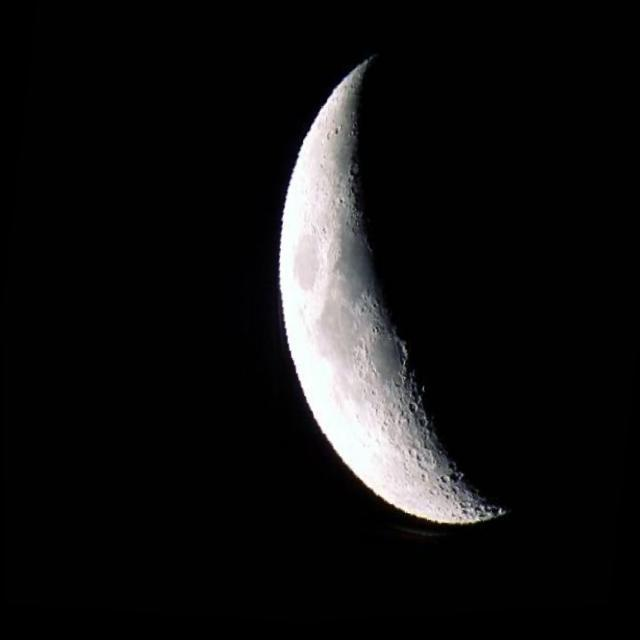moon: (215, 0, 640, 586)
